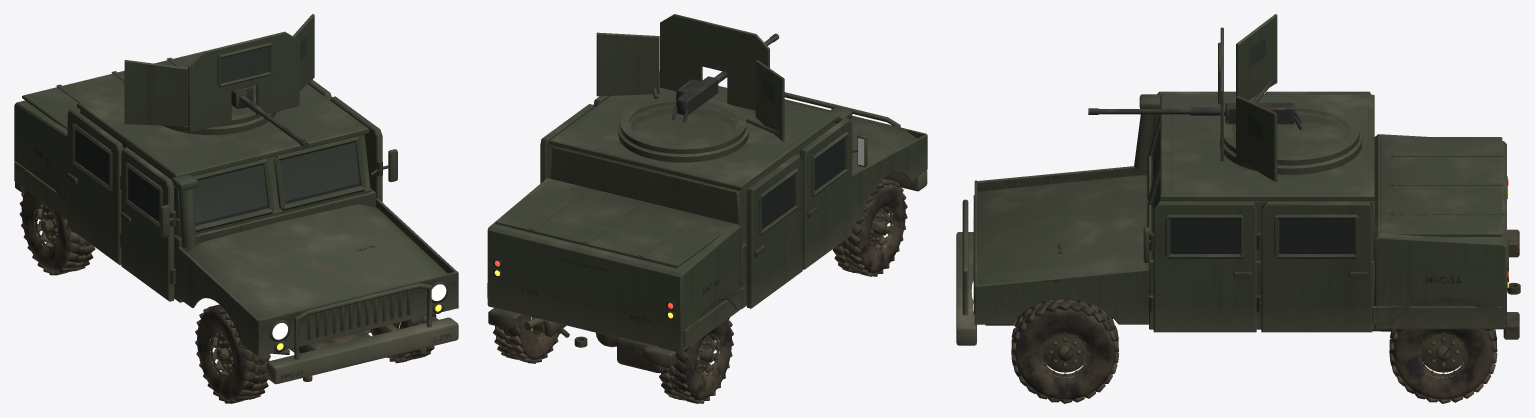
Rendered from m1151_hmmwv.glb.
The picture shows the model from 3 angles, left to right: view 1: azimuth 30°, elevation 25°; view 2: azimuth 150°, elevation 25°; view 3: azimuth 270°, elevation 25°; orthographic projection. The views are drawn at different scales.
Parts seen in each view (by area): view 1: Body_Shell, Turret_Shields, Front_Bumper_And_Intake, Windshield_Glass, Door_Rear_Right_Panel, Door_Front_Right_Panel, Wheel_1_Right_Mesh, Wheel_2_Right_Mesh, Windshield_Frame, Cargo_Lid_Panel, Turret_Windows, Door_Front_Left_Panel (+10 smaller); view 2: Body_Shell, Turret_Shields, Cargo_Lid_Panel, Door_Rear_Right_Panel, Door_Front_Right_Panel, Wheel_1_Right_Mesh, Wheel_2_Right_Mesh, Wheel_2_Left_Mesh, Turret_Ring, Frame_And_Running_Gear, M2, Front_Bumper_And_Intake (+5 smaller); view 3: Body_Shell, Door_Rear_Left_Panel, Cargo_Lid_Panel, Door_Front_Left_Panel, Wheel_1_Left_Mesh, Turret_Shields, Wheel_2_Left_Mesh, Front_Bumper_And_Intake, Door_Rear_Left_Glass, Door_Rear_Left_Window_Backing, Door_Front_Left_Glass, Door_Front_Left_Window_Backing (+5 smaller).
Boxes of the visible parts, x1=… form: Body_Shell: x1=14, y1=84, x2=458, y2=356; Turret_Shields: x1=124, y1=14, x2=314, y2=132; Front_Bumper_And_Intake: x1=171, y1=174, x2=458, y2=384; Windshield_Glass: x1=192, y1=142, x2=360, y2=225; Door_Rear_Right_Panel: x1=67, y1=108, x2=123, y2=264; Door_Front_Right_Panel: x1=121, y1=147, x2=176, y2=301; Wheel_1_Right_Mesh: x1=195, y1=304, x2=270, y2=403; Wheel_2_Right_Mesh: x1=19, y1=189, x2=95, y2=275; Windshield_Frame: x1=193, y1=136, x2=366, y2=232; Cargo_Lid_Panel: x1=22, y1=52, x2=201, y2=129; Turret_Windows: x1=221, y1=37, x2=306, y2=83; Door_Front_Left_Panel: x1=330, y1=96, x2=382, y2=202; Body_Shell: x1=487, y1=71, x2=927, y2=367; Turret_Shields: x1=596, y1=14, x2=784, y2=153; Cargo_Lid_Panel: x1=495, y1=180, x2=732, y2=268; Door_Rear_Right_Panel: x1=746, y1=154, x2=802, y2=308; Door_Front_Right_Panel: x1=800, y1=118, x2=852, y2=269; Wheel_1_Right_Mesh: x1=832, y1=178, x2=907, y2=276; Wheel_2_Right_Mesh: x1=659, y1=317, x2=733, y2=403; Wheel_2_Left_Mesh: x1=493, y1=314, x2=560, y2=363; Turret_Ring: x1=618, y1=102, x2=748, y2=162; Frame_And_Running_Gear: x1=524, y1=317, x2=665, y2=373; M2: x1=672, y1=33, x2=779, y2=122; Front_Bumper_And_Intake: x1=784, y1=92, x2=927, y2=191; Body_Shell: x1=973, y1=94, x2=1520, y2=339; Door_Rear_Left_Panel: x1=1256, y1=201, x2=1372, y2=332; Cargo_Lid_Panel: x1=1380, y1=137, x2=1503, y2=236; Door_Front_Left_Panel: x1=1149, y1=201, x2=1256, y2=332; Wheel_1_Left_Mesh: x1=1011, y1=299, x2=1118, y2=403; Turret_Shields: x1=1218, y1=14, x2=1359, y2=182; Wheel_2_Left_Mesh: x1=1389, y1=328, x2=1497, y2=403; Front_Bumper_And_Intake: x1=956, y1=94, x2=1160, y2=345; Door_Rear_Left_Glass: x1=1279, y1=219, x2=1354, y2=254; Door_Rear_Left_Window_Backing: x1=1279, y1=219, x2=1354, y2=253; Door_Front_Left_Glass: x1=1170, y1=219, x2=1239, y2=254; Door_Front_Left_Window_Backing: x1=1170, y1=219, x2=1239, y2=253.
Bounding box in the file's own units: 2.57 × 2.93 × 4.93.
8 materials, 2 textured.
